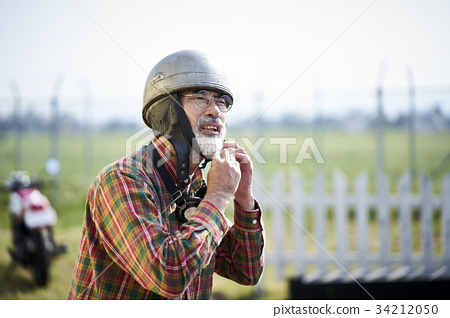helmet: (134, 56, 232, 97)
